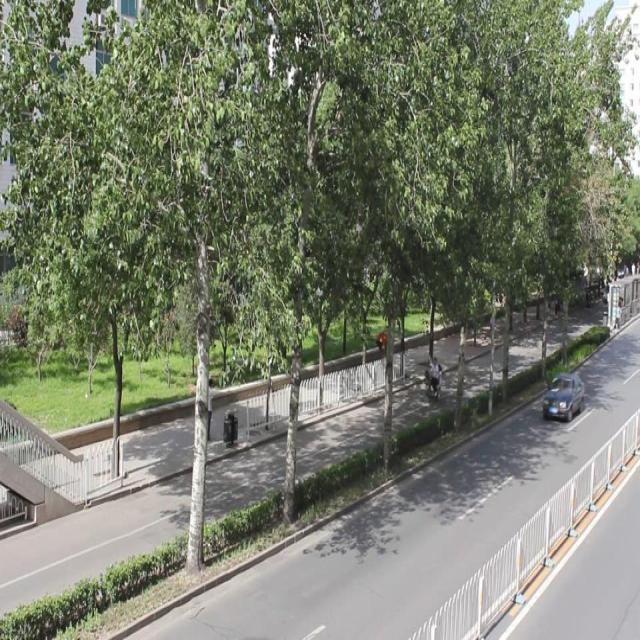car: (541, 372, 584, 418)
